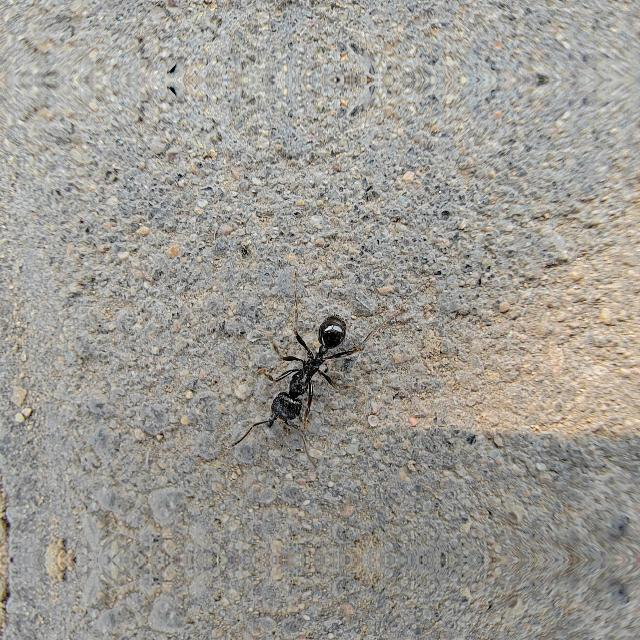Messor: (243, 311, 373, 429)
